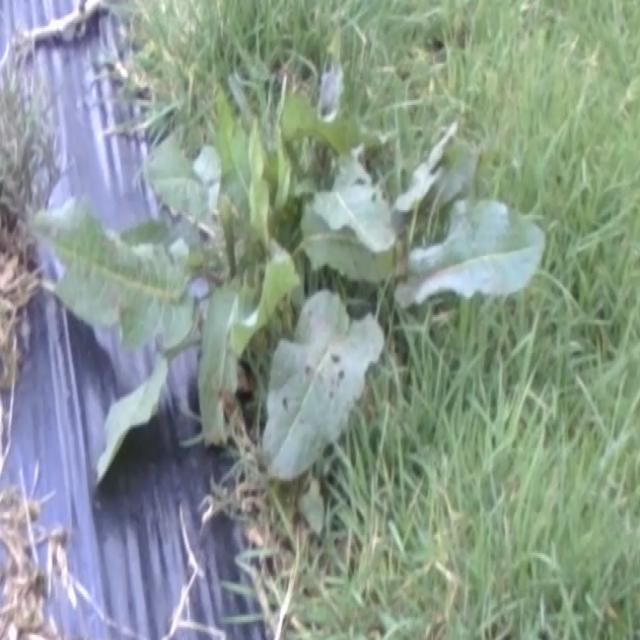organic waste: (21, 67, 532, 505)
